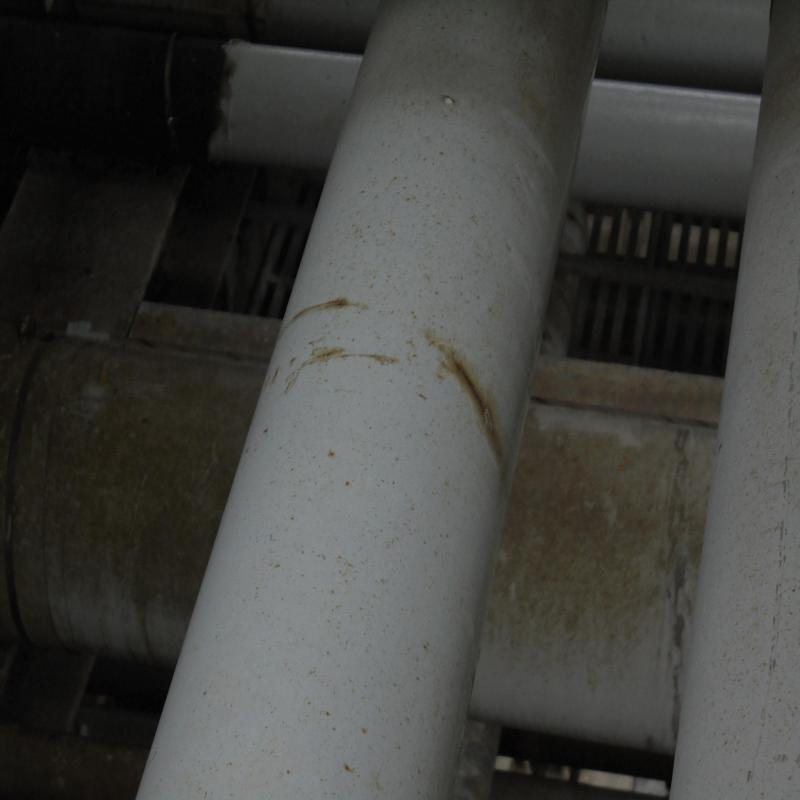Fracture: (442, 351, 499, 452)
corrosion: (289, 294, 361, 318)
